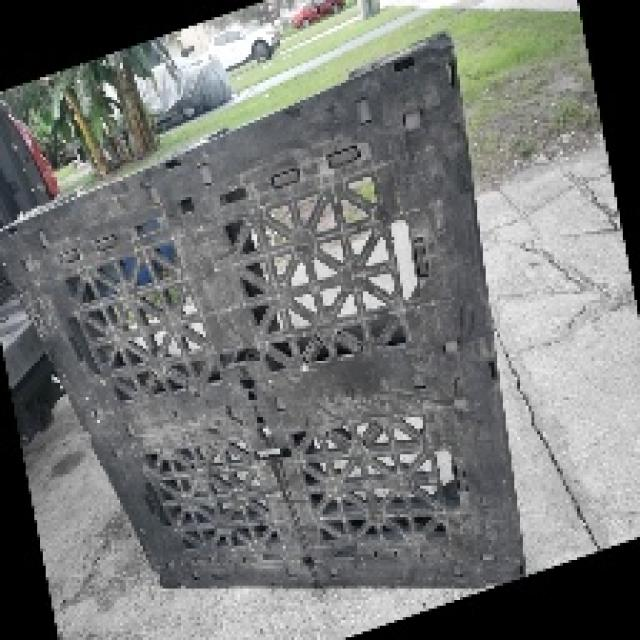igps: (0, 20, 531, 597)
